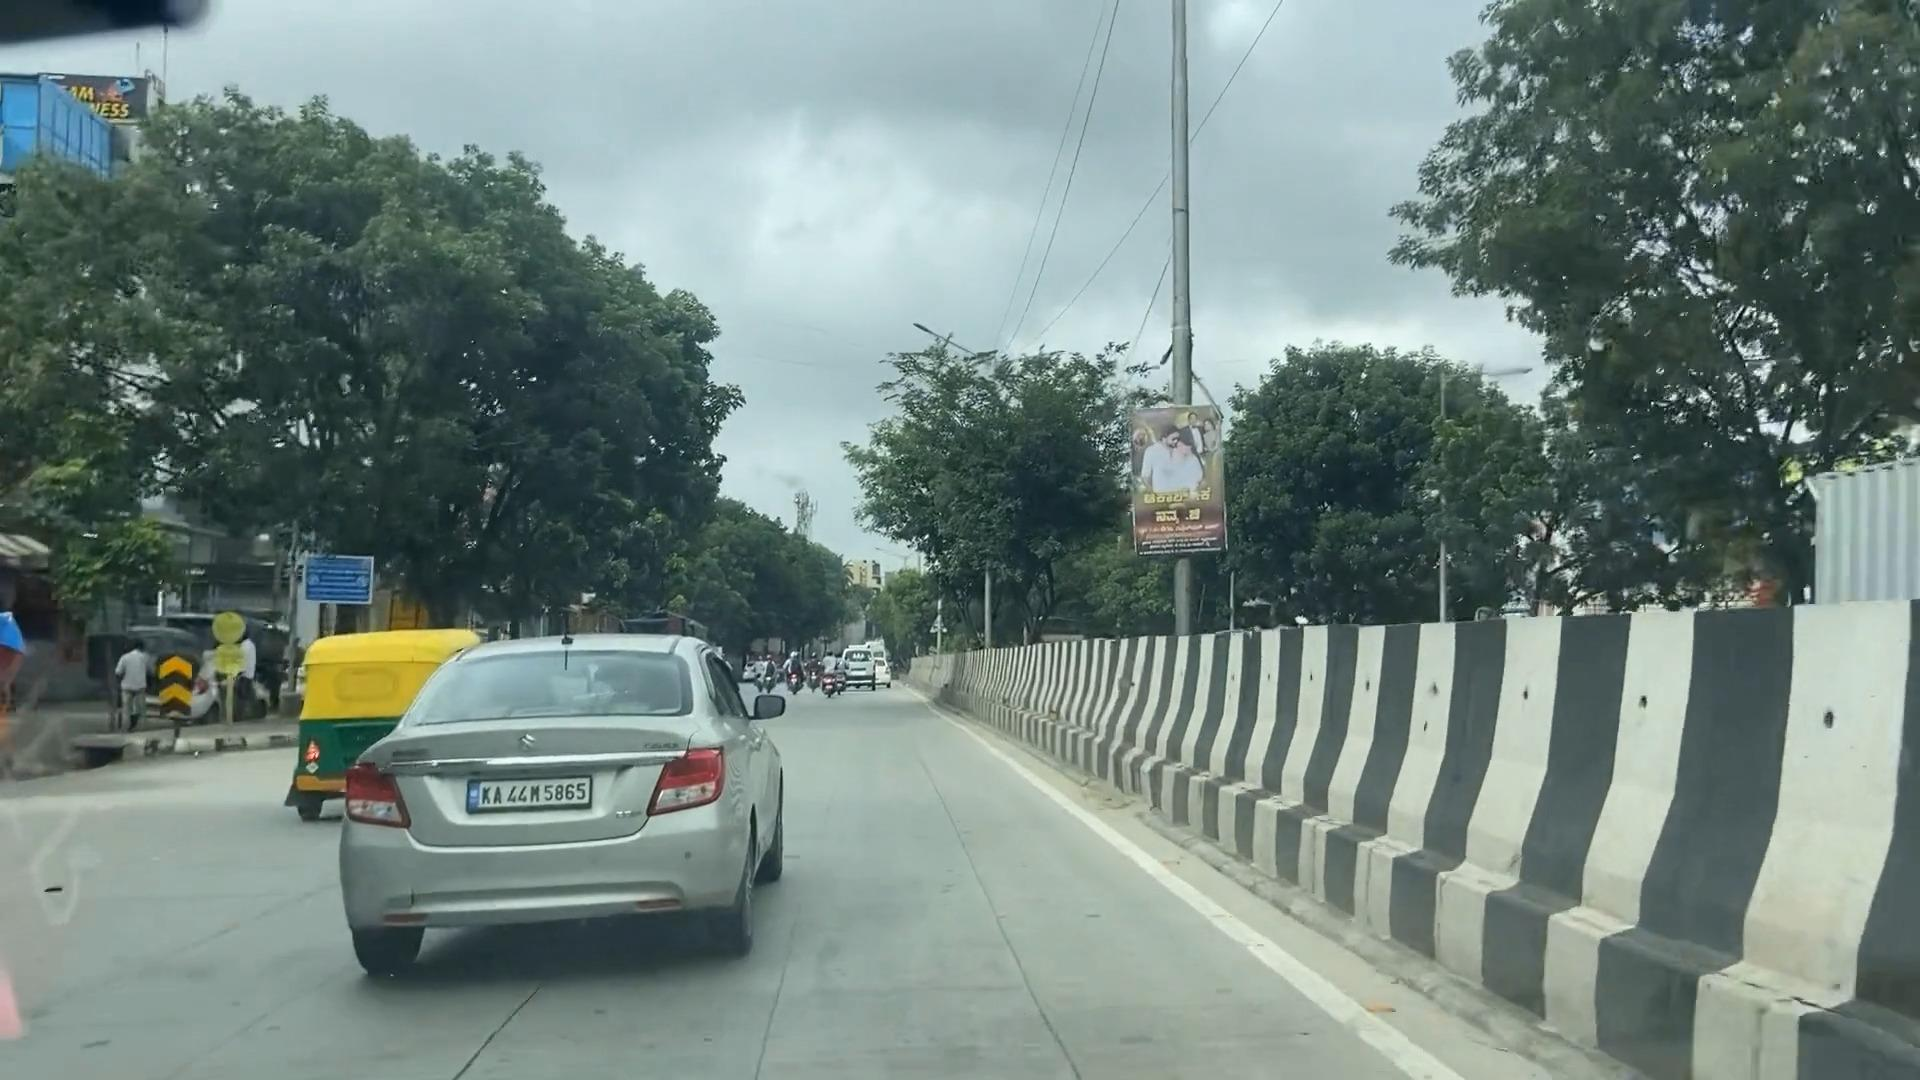LMV: (406, 628, 791, 971), (286, 638, 384, 782)
